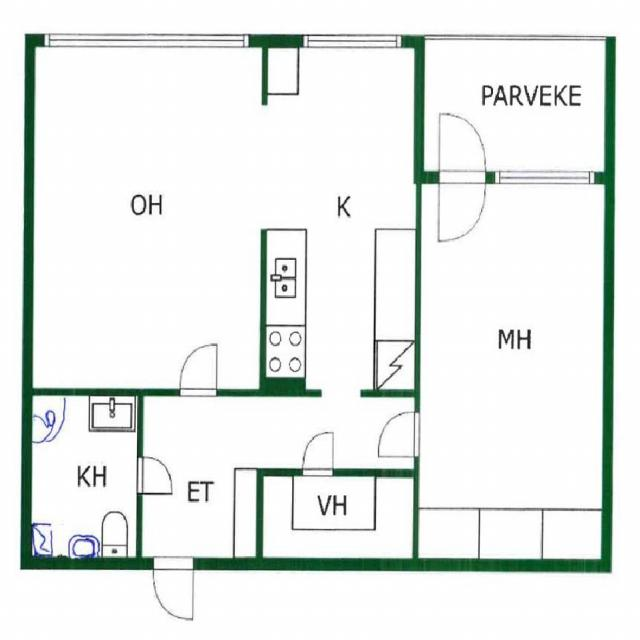door: (438, 170, 485, 240), (438, 114, 485, 182), (153, 559, 194, 621), (180, 344, 216, 396), (380, 412, 420, 455), (302, 431, 332, 476), (137, 457, 172, 493)
